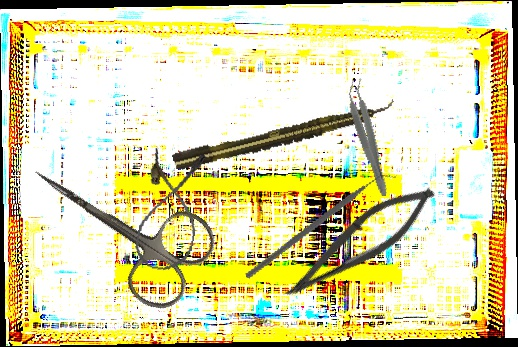Cannula: (131, 144, 211, 276)
Chopper: (244, 138, 398, 316)
Handpiece: (171, 97, 398, 173)
Iris Scissors: (7, 126, 225, 321)
Micro Scissor: (275, 169, 445, 320)
Tissue Forceps: (341, 77, 397, 199)
